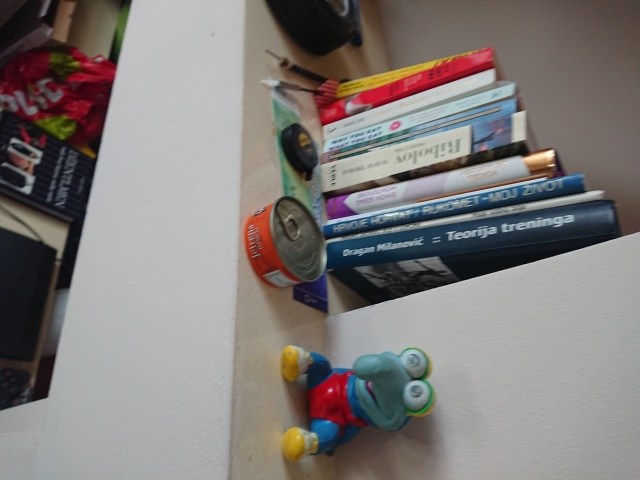Gavrilovic Pork Liver Pate 100g: (242, 192, 329, 291)
